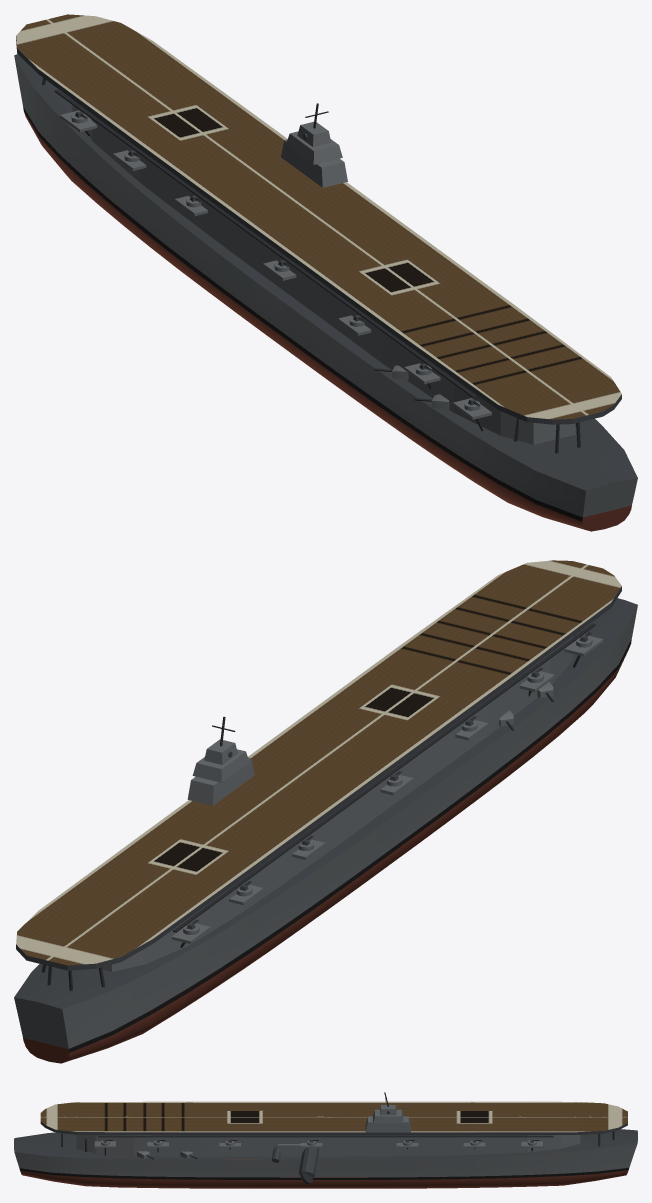
The model's file is carrier_ijn_R.glb.
3 renders of one model, top to bottom at view 1: azimuth 30°, elevation 25°; view 2: azimuth 150°, elevation 25°; view 3: azimuth 270°, elevation 25°, orthographic. The views are drawn at different scales.
Parts seen in each view (by area): view 1: carrier_ijn; view 2: carrier_ijn; view 3: carrier_ijn.
Boxes of the visible parts, x1,y1,x2,y2 form: carrier_ijn: (14,14,637,531); carrier_ijn: (14,560,637,1063); carrier_ijn: (14,1092,637,1188).
Size of the model in its own units: 42.61 by 46.29 by 260.
Materials: 6 (1 with a texture image).
